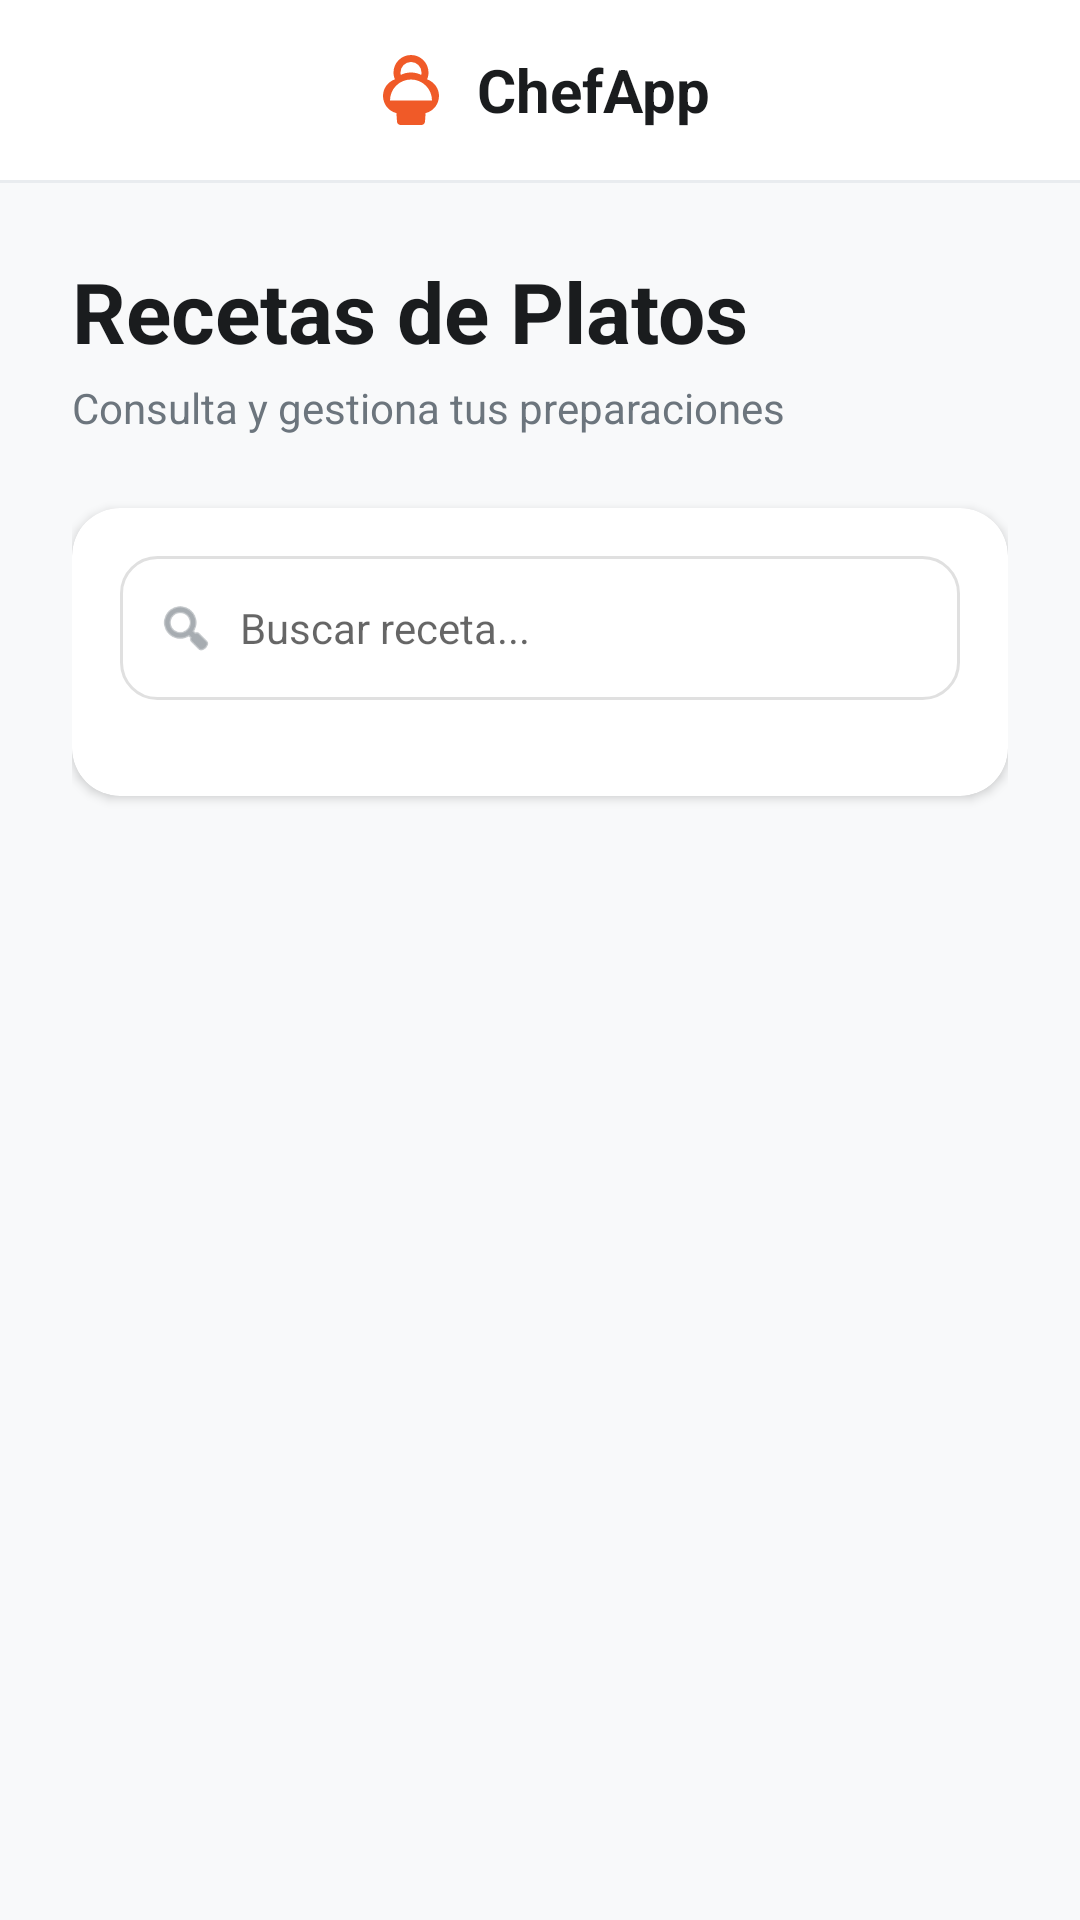

Named icons in this screenshot (1080px×1920px) and their centers, (x,y):
chef hat: (411,90)
search: (186,628)
